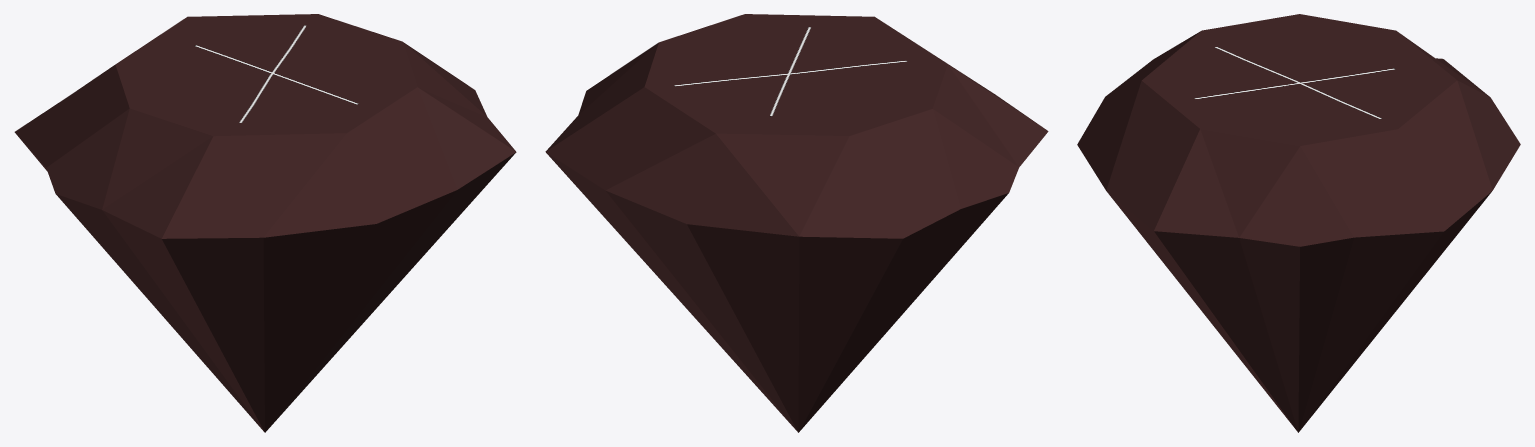
Rendered from rune_gammur_brown.fbx.
The picture shows the model from 3 angles, left to right: view 1: azimuth 30°, elevation 25°; view 2: azimuth 150°, elevation 25°; view 3: azimuth 270°, elevation 25°; orthographic projection.
Parts seen in each view (by area): view 1: Circle; view 2: Circle; view 3: Circle.
Part boxes in pixels (x1,y1,x2,y2): Circle: [14, 14, 516, 432]; Circle: [545, 14, 1048, 432]; Circle: [1077, 14, 1520, 432].
Size of the model in its own units: 397 by 322 by 365.
Materials: 1 (1 with a texture image).
